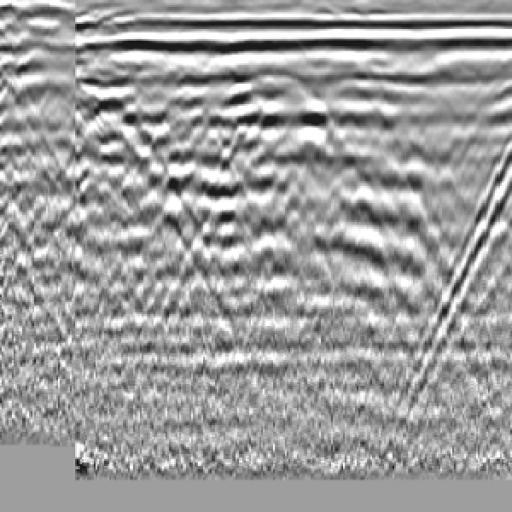metalic: (197, 58, 371, 136)
